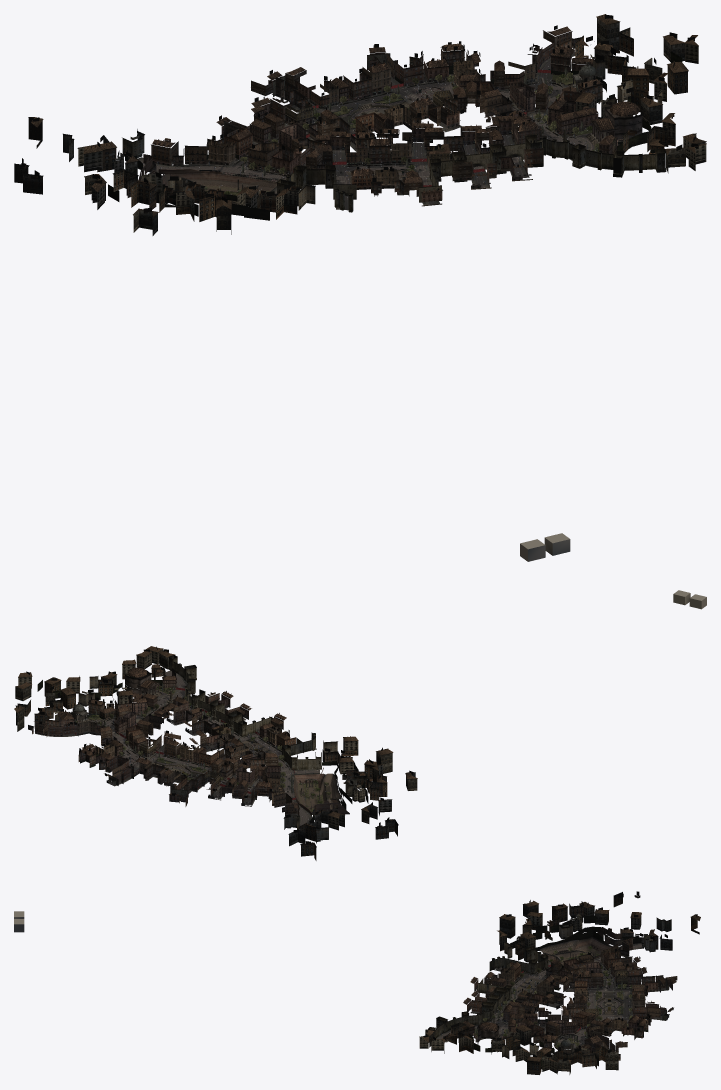
Rendered from burnout_revenge_eternal_city_crash_junction.glb.
The picture shows the model from 3 angles, top to bottom: view 1: azimuth 30°, elevation 25°; view 2: azimuth 150°, elevation 25°; view 3: azimuth 270°, elevation 25°; orthographic projection. The views are drawn at different scales.
Parts seen in each view (by area): view 1: backdrop_grp_001_mdl_000_sub_000, backdrop_grp_000_mdl_000_sub_000, backdrop_grp_000_mdl_002_sub_000, backdrop_grp_001_mdl_001_sub_000, backdrop_grp_000_mdl_001_sub_000, unit_021_sub_001, unit_003_sub_003; view 2: backdrop_grp_001_mdl_000_sub_000, backdrop_grp_000_mdl_000_sub_000, backdrop_grp_000_mdl_002_sub_000, backdrop_grp_001_mdl_001_sub_000, backdrop_grp_000_mdl_001_sub_000; view 3: backdrop_grp_001_mdl_000_sub_000, backdrop_grp_000_mdl_000_sub_000, backdrop_grp_001_mdl_001_sub_000, backdrop_grp_000_mdl_002_sub_000, backdrop_grp_000_mdl_001_sub_000, unit_021_sub_001, unit_007_sub_029, unit_025_sub_032, unit_003_sub_003.
Boxes of the visible parts, bbox=[...] form: backdrop_grp_001_mdl_000_sub_000: bbox=[569, 14, 698, 112]; backdrop_grp_000_mdl_000_sub_000: bbox=[162, 176, 315, 234]; backdrop_grp_000_mdl_002_sub_000: bbox=[14, 121, 194, 235]; backdrop_grp_001_mdl_001_sub_000: bbox=[575, 87, 706, 173]; backdrop_grp_000_mdl_001_sub_000: bbox=[28, 117, 144, 174]; unit_021_sub_001: bbox=[536, 136, 642, 172]; unit_003_sub_003: bbox=[138, 154, 232, 185]; backdrop_grp_001_mdl_000_sub_000: bbox=[14, 671, 100, 731]; backdrop_grp_000_mdl_000_sub_000: bbox=[322, 736, 393, 811]; backdrop_grp_000_mdl_002_sub_000: bbox=[312, 763, 417, 843]; backdrop_grp_001_mdl_001_sub_000: bbox=[88, 646, 176, 704]; backdrop_grp_000_mdl_001_sub_000: bbox=[283, 809, 344, 860]; backdrop_grp_001_mdl_000_sub_000: bbox=[512, 1039, 618, 1074]; backdrop_grp_000_mdl_000_sub_000: bbox=[497, 914, 604, 960]; backdrop_grp_001_mdl_001_sub_000: bbox=[419, 1021, 554, 1058]; backdrop_grp_000_mdl_002_sub_000: bbox=[523, 891, 695, 938]; backdrop_grp_000_mdl_001_sub_000: bbox=[620, 912, 700, 952]; unit_021_sub_001: bbox=[439, 1009, 492, 1035]; unit_007_sub_029: bbox=[563, 975, 655, 990]; unit_025_sub_032: bbox=[498, 970, 551, 995]; unit_003_sub_003: bbox=[594, 927, 622, 958].
Size of the model in its own units: 17.69 by 2.09 by 27.16.
99 materials, 98 textured.
